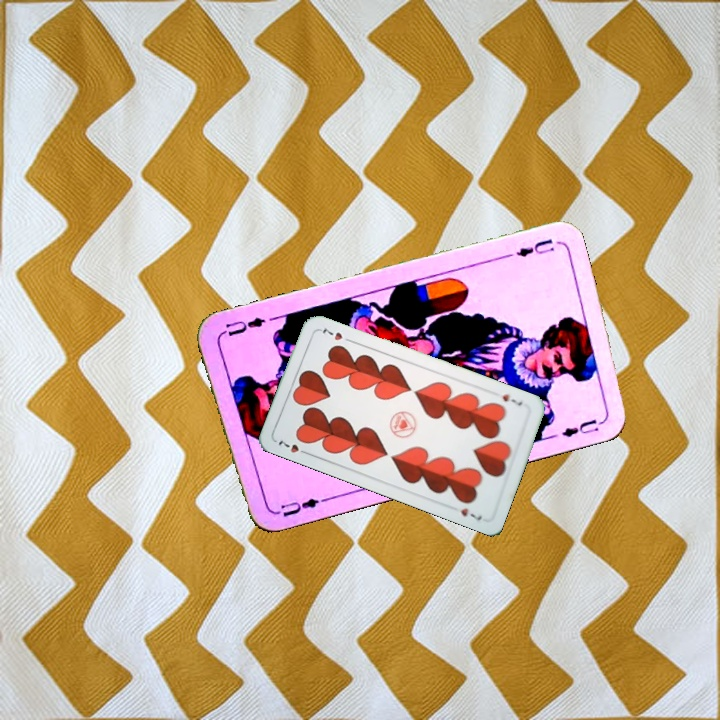EU: (269, 494, 328, 520), (511, 235, 557, 260)
H7: (274, 436, 312, 457), (498, 390, 525, 408)
